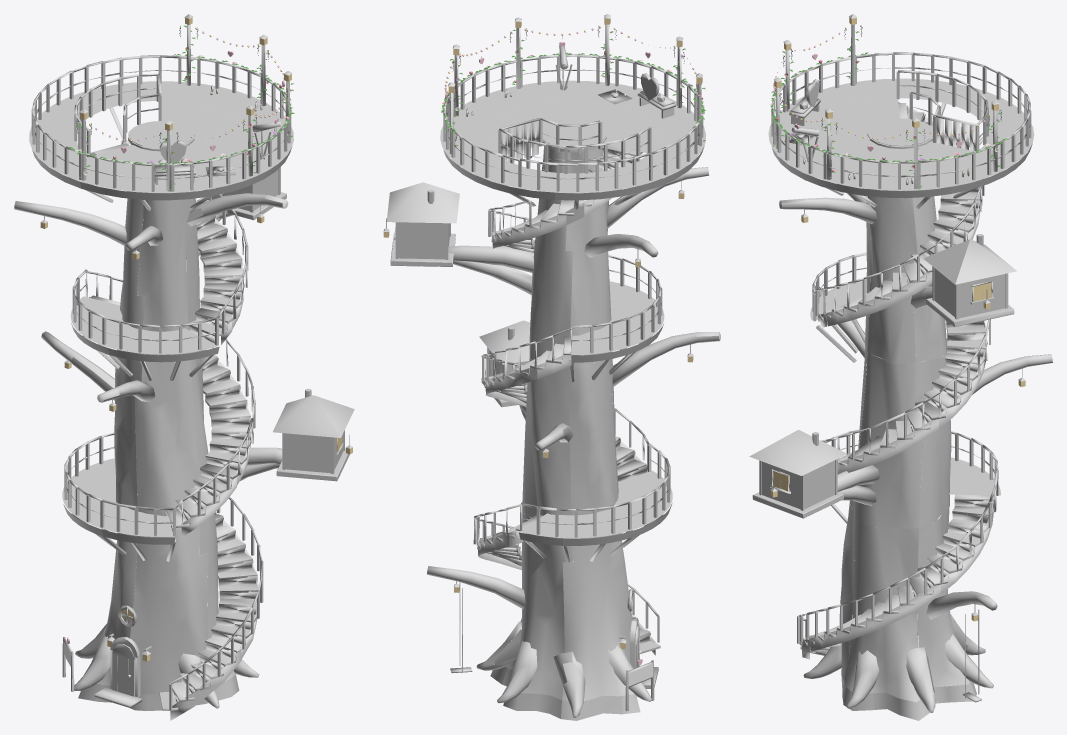
Rendered from zon_lookout_lite.glb.
The picture shows the model from 3 angles, left to right: view 1: azimuth 30°, elevation 25°; view 2: azimuth 150°, elevation 25°; view 3: azimuth 270°, elevation 25°; orthographic projection.
Parts seen in each view (by area): view 1: SM_zon_lookout_lite_kit_lookout_x0_zm1, SM_zon_lookout_lite_glow_vc_x0_zm1, SM_zon_lookout_lite_vc_palette_x0_zm1; view 2: SM_zon_lookout_lite_kit_lookout_x0_zm1, SM_zon_lookout_lite_vc_palette_x0_zm1, SM_zon_lookout_lite_glow_vc_x0_zm1; view 3: SM_zon_lookout_lite_kit_lookout_x0_zm1, SM_zon_lookout_lite_glow_vc_x0_zm1, SM_zon_lookout_lite_vc_palette_x0_zm1.
Part boxes in pixels (x1=…): SM_zon_lookout_lite_kit_lookout_x0_zm1: x1=14, y1=14, x2=354, y2=720; SM_zon_lookout_lite_glow_vc_x0_zm1: x1=40, y1=17, x2=352, y2=661; SM_zon_lookout_lite_vc_palette_x0_zm1: x1=68, y1=25, x2=294, y2=190; SM_zon_lookout_lite_kit_lookout_x0_zm1: x1=383, y1=14, x2=720, y2=720; SM_zon_lookout_lite_vc_palette_x0_zm1: x1=441, y1=25, x2=705, y2=145; SM_zon_lookout_lite_glow_vc_x0_zm1: x1=383, y1=18, x2=702, y2=665; SM_zon_lookout_lite_kit_lookout_x0_zm1: x1=749, y1=14, x2=1052, y2=720; SM_zon_lookout_lite_glow_vc_x0_zm1: x1=770, y1=17, x2=1025, y2=621; SM_zon_lookout_lite_vc_palette_x0_zm1: x1=770, y1=25, x2=1008, y2=187.
Size of the model in its own units: 11.13 by 24.23 by 10.74.
